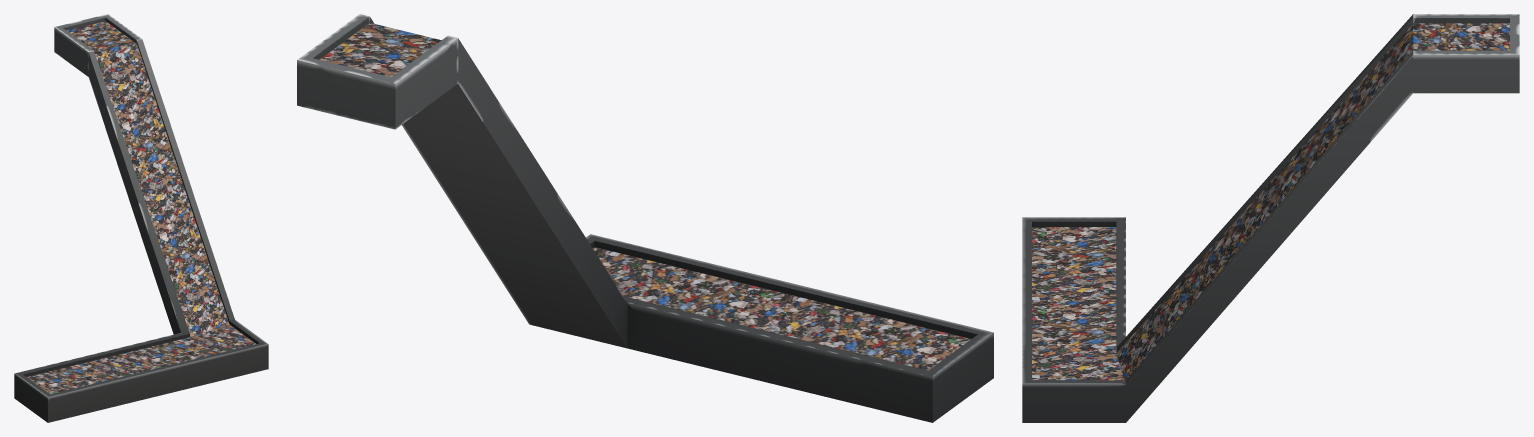
The model's file is COnveyor.fbx.
3 renders of one model, left to right at view 1: azimuth 30°, elevation 25°; view 2: azimuth 150°, elevation 25°; view 3: azimuth 270°, elevation 25°, orthographic. The views are drawn at different scales.
Parts seen in each view (by area): view 1: Cube; view 2: Cube; view 3: Cube.
Boxes of the visible parts, <box> form: Cube: <box>14,14,268,422</box>; Cube: <box>297,14,993,422</box>; Cube: <box>1022,14,1519,422</box>.
Bounding box in the file's own units: 547 × 563 × 689.
1 material, 1 textured.
